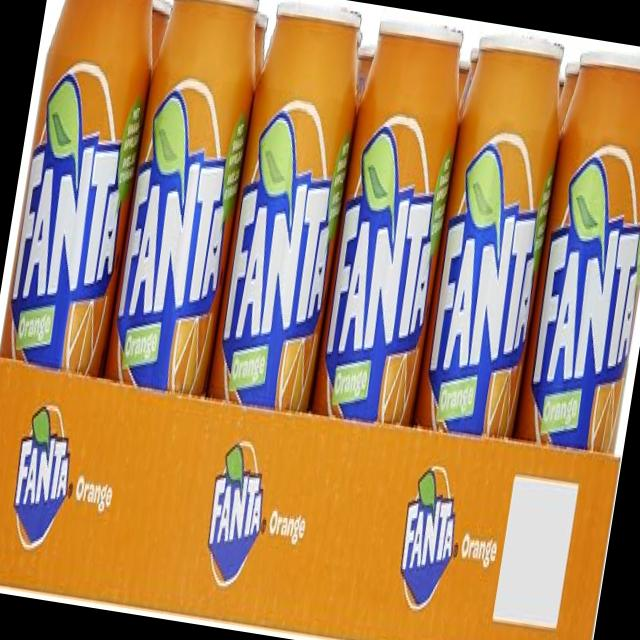fanta: (408, 24, 580, 448), (200, 31, 378, 440), (304, 10, 472, 438), (0, 0, 168, 411), (103, 0, 270, 407), (512, 47, 640, 462)
